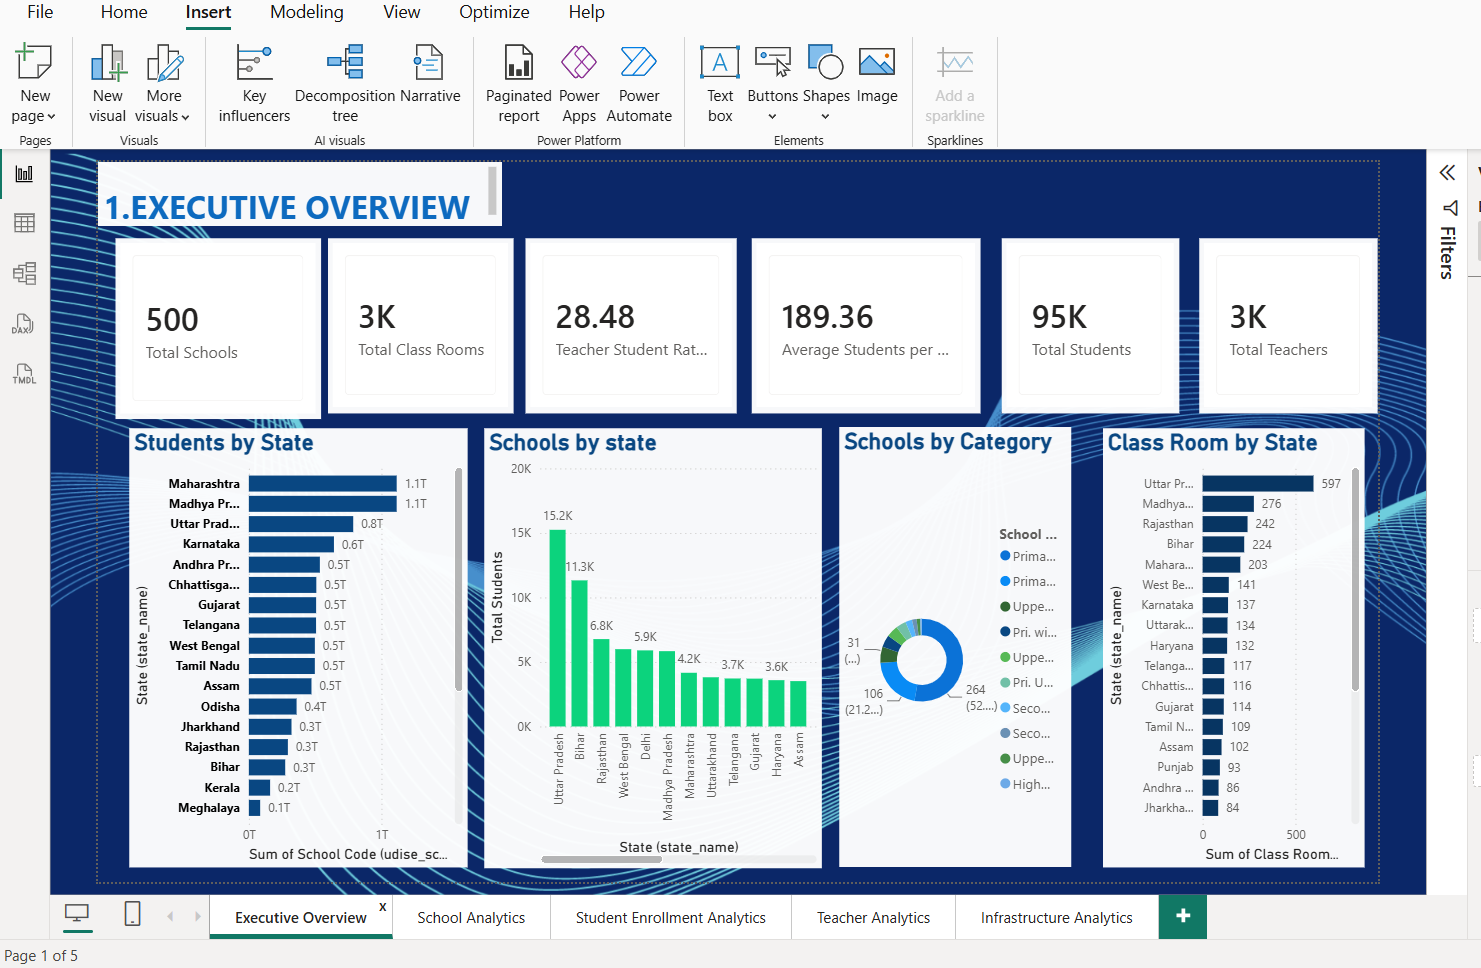

The page's visual inventory and layout, read from the dashboard file:
{"tool":"powerbi","page":{"name":"Executive  Overview","canvas":[1280,720],"ordinal":0},"visuals":[{"type":"cardVisual","fields":{"Data":["Basic Details of Schools_Sample_Data.Total Schools"]},"box":[15,76.2,205,177.5],"z":0},{"type":"cardVisual","fields":{"Data":["Basic Details of Schools_Sample_Data.Total Class Rooms"]},"box":[229.9,75.8,185.9,174.9],"z":1000},{"type":"cardVisual","fields":{"Data":["Basic Details of Schools_Sample_Data.Teacher Student Ratio"]},"box":[428,75.8,211.6,174.9],"z":2000},{"type":"cardVisual","fields":{"Data":["Basic Details of Schools_Sample_Data.Total Students"]},"box":[903.7,75.8,177.3,174.9],"z":3000},{"type":"cardVisual","fields":{"Data":["Basic Details of Schools_Sample_Data.Total Teachers"]},"box":[1101.8,75.8,178.5,174.9],"z":4000},{"type":"cardVisual","fields":{"Data":["Basic Details of Schools_Sample_Data.Average Students per School"]},"box":[654.2,75.8,228.7,174.9],"z":5000},{"type":"clusteredBarChart","title":"Students by State","fields":{"Category":["Basic Details of Schools_Sample_Data.State (state_name)"],"Y":["Sum(Basic Details of Schools_Sample_Data.School Code (udise_school_code))"]},"box":[31.8,266.6,338.7,439],"z":6000},{"type":"clusteredColumnChart","title":"Schools by state ","fields":{"Y":["Basic Details of Schools_Sample_Data.Total Students"],"Category":["Basic Details of Schools_Sample_Data.State (state_name)"]},"box":[386.4,266.6,337.5,440.2],"z":7000},{"type":"donutChart","title":"Schools by Category ","fields":{"Category":["Basic Details of Schools_Sample_Data.School Category (school_category)"],"Y":["Count(Basic Details of Schools_Sample_Data.School Code (udise_school_code))"]},"box":[741,265.4,232.3,440.2],"z":8000},{"type":"clusteredBarChart","title":"Class Room by State","fields":{"Category":["Basic Details of Schools_Sample_Data.State (state_name)"],"Y":["Sum(Basic Details of Schools_Sample_Data.Class Rooms (class_rooms))"]},"box":[1005.2,266.6,261.7,439],"z":9000},{"type":"textbox","box":[0,0,401.2,63.8],"z":10000}]}

Visuals, with their boxes on the page's 1280x720 design canvas (x1, y1, x2, y2). These are canvas units, not pixel positions in the 1481x968 screenshot, which may show the page scaled, cropped or inside an application window:
cardVisual - Basic Details of Schools_Sample_Data.Total Schools: region(15, 76, 220, 254)
cardVisual - Basic Details of Schools_Sample_Data.Total Class Rooms: region(230, 76, 416, 251)
cardVisual - Basic Details of Schools_Sample_Data.Teacher Student Ratio: region(428, 76, 640, 251)
cardVisual - Basic Details of Schools_Sample_Data.Total Students: region(904, 76, 1081, 251)
cardVisual - Basic Details of Schools_Sample_Data.Total Teachers: region(1102, 76, 1280, 251)
cardVisual - Basic Details of Schools_Sample_Data.Average Students per School: region(654, 76, 883, 251)
"Students by State" clusteredBarChart: region(32, 267, 370, 706)
"Schools by state " clusteredColumnChart: region(386, 267, 724, 707)
"Schools by Category " donutChart: region(741, 265, 973, 706)
"Class Room by State" clusteredBarChart: region(1005, 267, 1267, 706)
textbox: region(0, 0, 401, 64)
